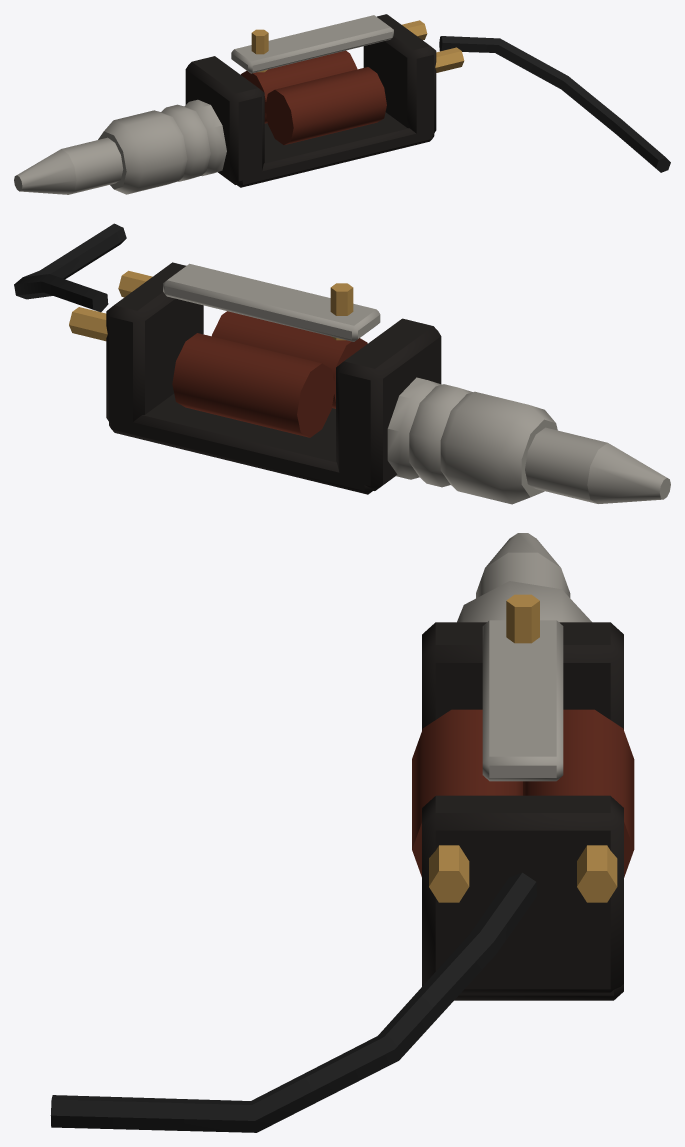
File: ink-machine-coil.glb
3 renders of one model, top to bottom at view 1: azimuth 30°, elevation 25°; view 2: azimuth 150°, elevation 25°; view 3: azimuth 270°, elevation 25°, orthographic. The views are drawn at different scales.
Parts seen in each view (by area): view 1: machine; view 2: machine; view 3: machine.
Boxes of the visible parts, <box> form: machine: <box>14,14,670,194</box>; machine: <box>14,223,670,504</box>; machine: <box>50,533,634,1132</box>.
Bounding box in the file's own units: 0.1854 × 0.042 × 0.0867.
